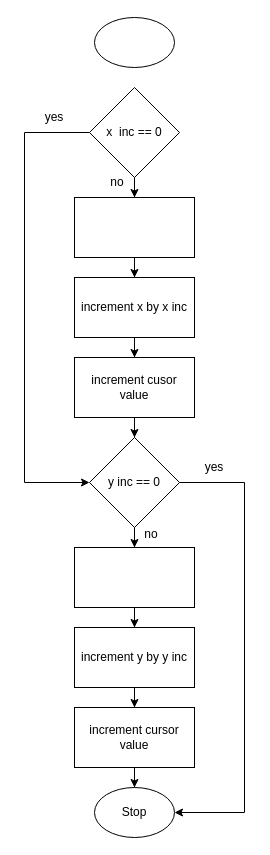
This 270x855 diagram has some shape labels left out. Each missing label, with the centre of its shape:
"get x value" goes at point (134, 227).
"get y value" goes at point (134, 577).
"Start" goes at point (134, 42).
